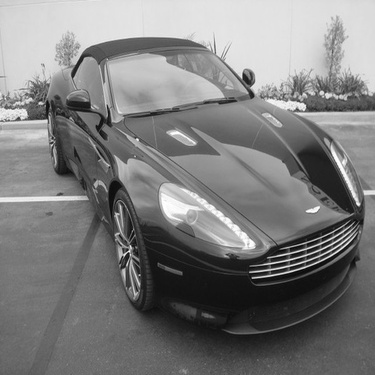car: (37, 32, 369, 341)
